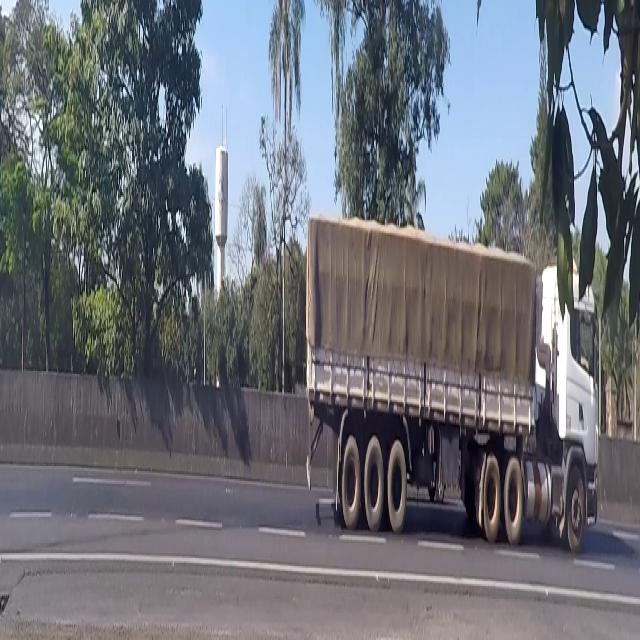-axle: (564, 464, 589, 563), (479, 452, 501, 558), (341, 424, 360, 537), (363, 427, 384, 528), (504, 450, 522, 551)
